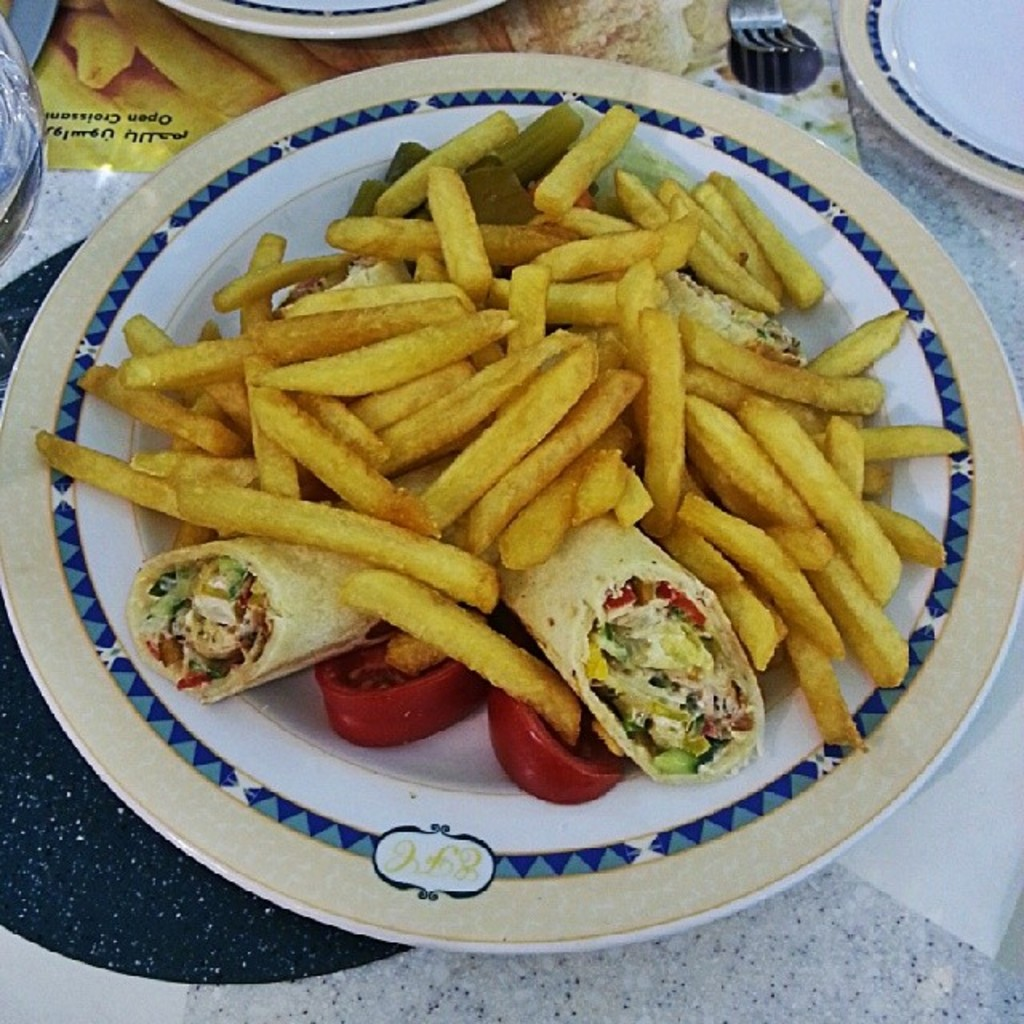French fries: (35, 92, 980, 764), (51, 0, 352, 123)
